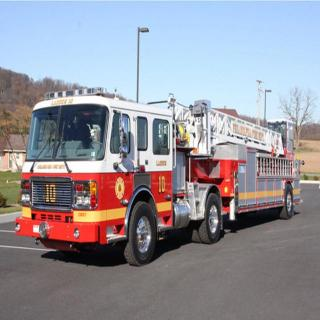Fire_truck: (15, 86, 305, 266)
